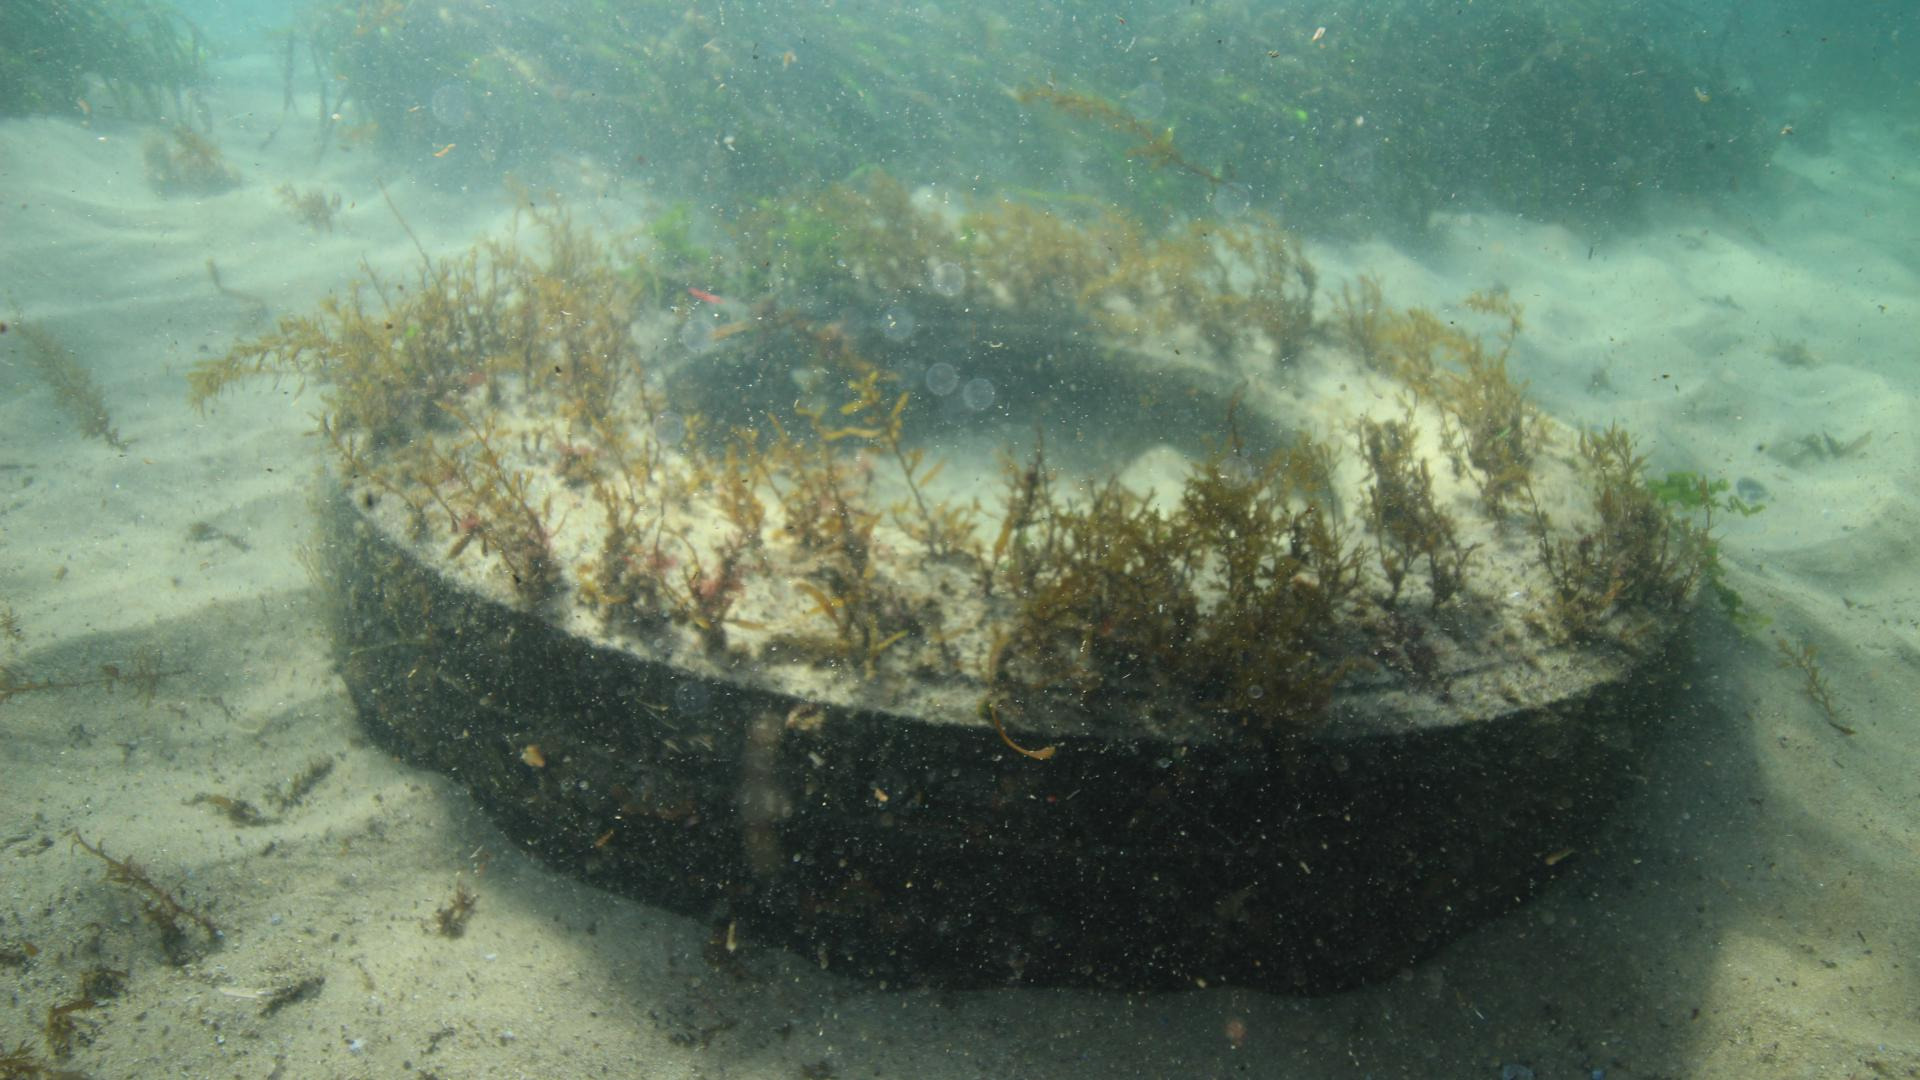tire: (316, 219, 1716, 1000)
